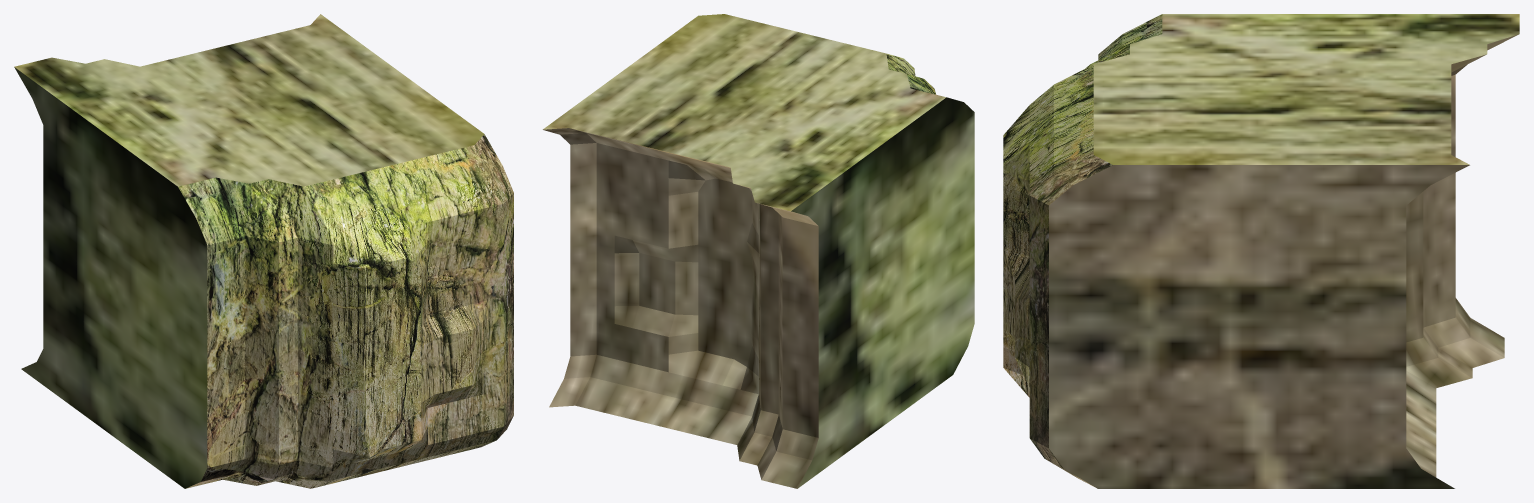
The model's file is NewWall1.fbx.
3 renders of one model, left to right at view 1: azimuth 30°, elevation 25°; view 2: azimuth 150°, elevation 25°; view 3: azimuth 270°, elevation 25°, orthographic. The views are drawn at different scales.
Visible parts, largest first — view 1: Cube; view 2: Cube; view 3: Cube.
Part boxes in pixels (<box>): Cube: <box>14,14,513,488</box>; Cube: <box>543,14,974,488</box>; Cube: <box>1003,14,1519,488</box>.
Bounding box in the file's own units: 388 × 388 × 561.
